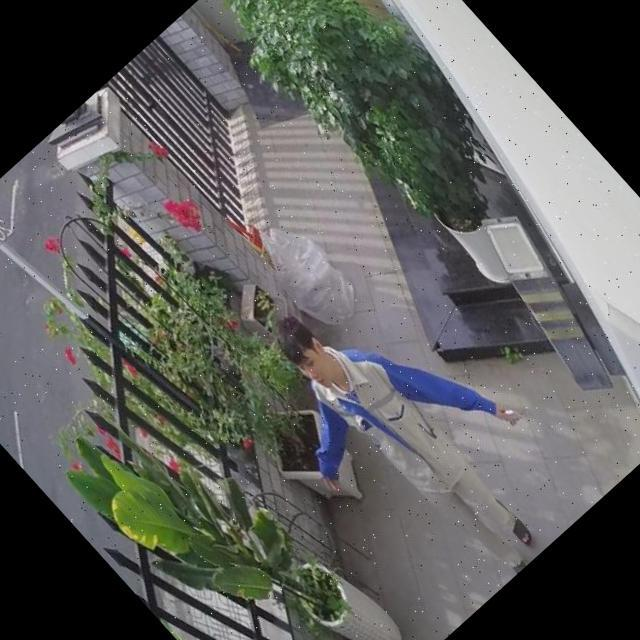person: (223, 242, 595, 628)
